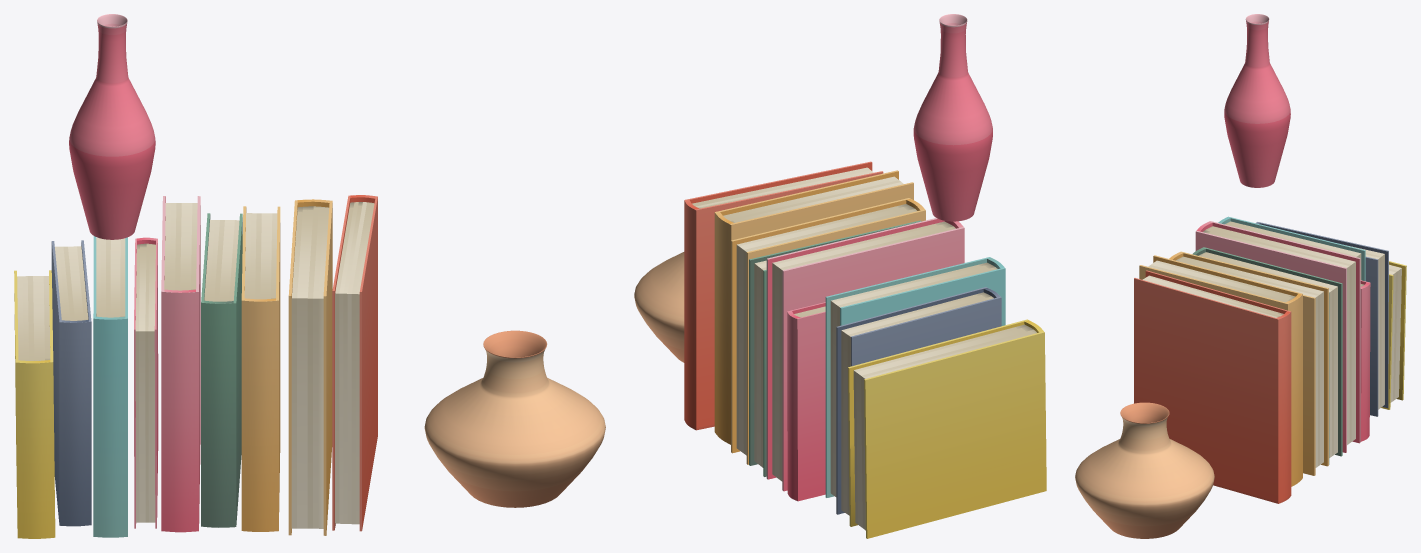
File: books and vases.fbx
The picture shows the model from 3 angles, left to right: view 1: azimuth 30°, elevation 25°; view 2: azimuth 150°, elevation 25°; view 3: azimuth 270°, elevation 25°; orthographic projection. The views are drawn at different scales.
Parts seen in each view (by area): view 1: books, vase1, vase2; view 2: books, vase2, vase1; view 3: books, vase1, vase2.
Boxes of the visible parts, bbox=[...] form: books: bbox=[14, 195, 377, 538]; vase1: bbox=[424, 330, 605, 507]; vase2: bbox=[69, 14, 155, 239]; books: bbox=[684, 161, 1046, 538]; vase2: bbox=[913, 14, 992, 221]; vase1: bbox=[634, 252, 684, 362]; books: bbox=[1134, 216, 1406, 503]; vase1: bbox=[1075, 402, 1214, 538]; vase2: bbox=[1224, 14, 1290, 187].
Bounding box in the file's own units: 599 × 559 × 441.
